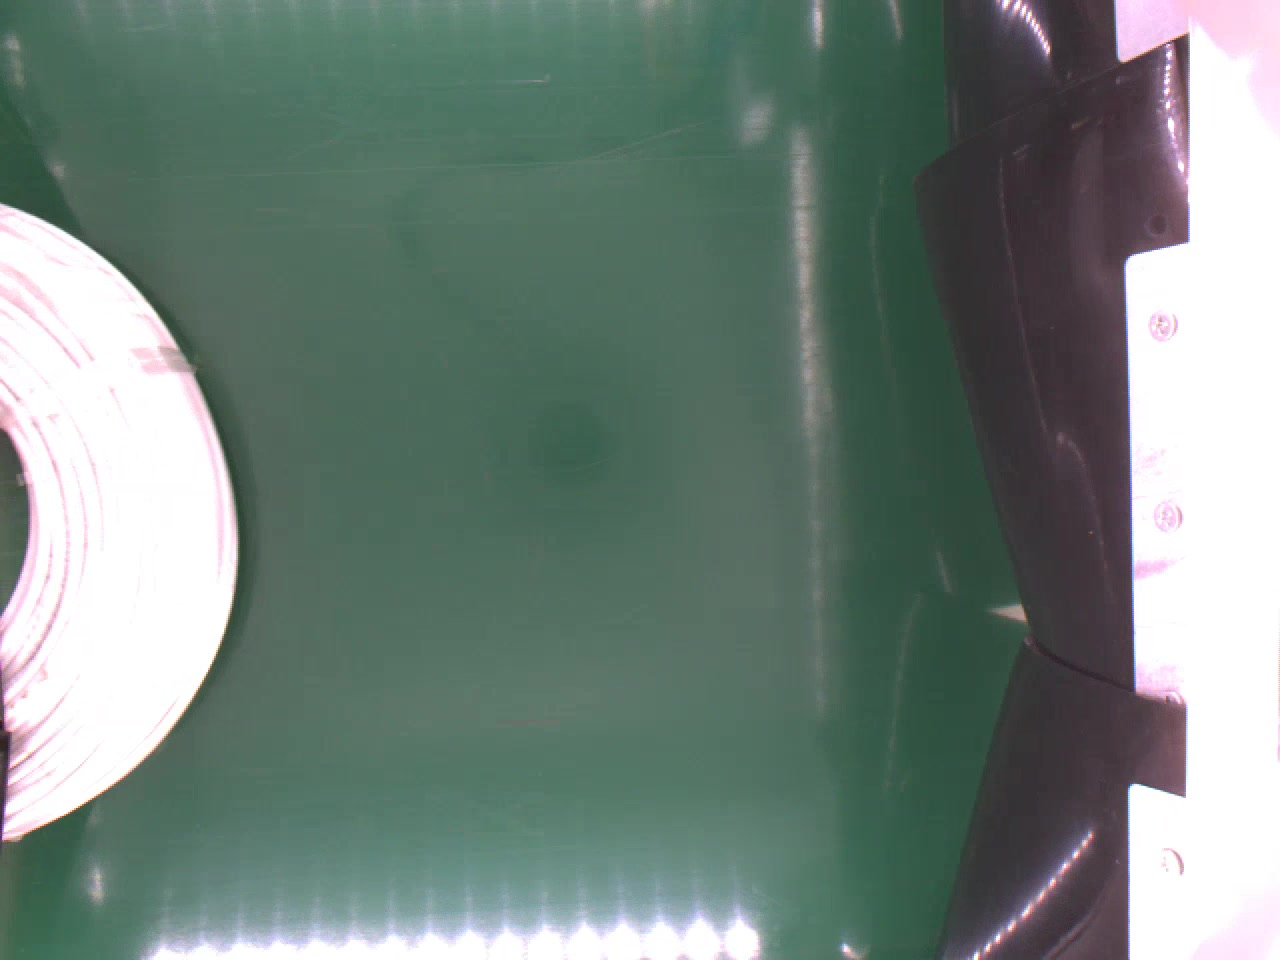white: (0, 197, 240, 838)
